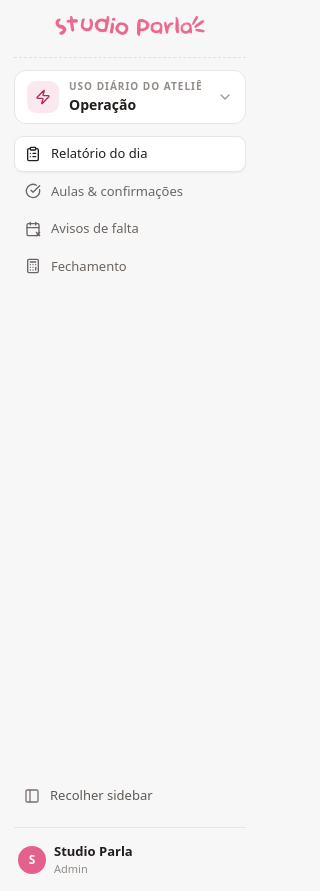
Test: sidebar do app enxuto › mostra somente os itens do workspace selecionado
Expected: the link "Aulas & confirmações" is shown, [25,182,183,200]
Click the dropdown named "Workspace": coordinates (130, 97) [14,70,246,124]
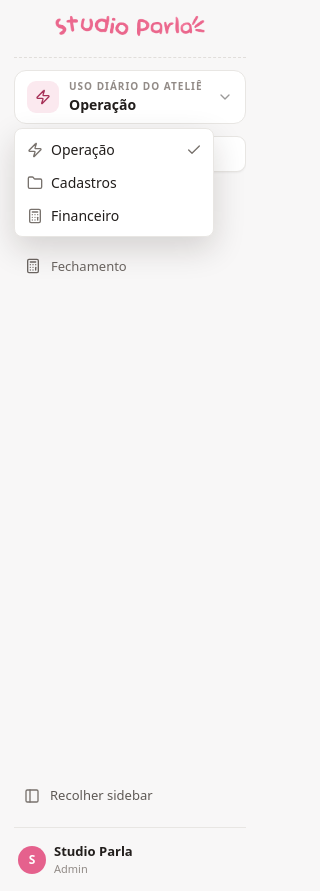
Click the option "Financeiro": coordinates (73, 216) [27,206,119,225]
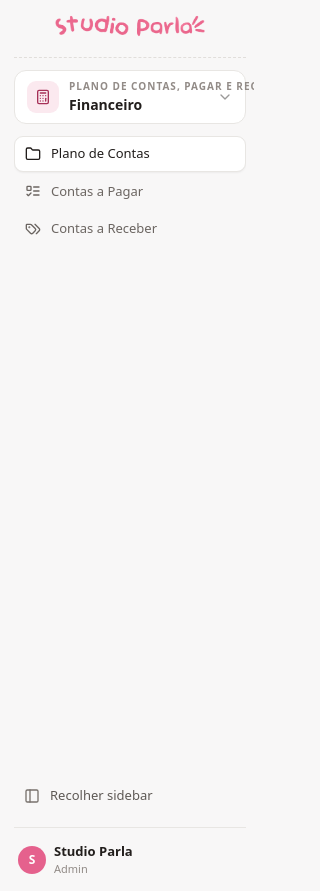
Result: the link "Plano de Contas" is shown at [14,136,246,172]
Result: the link "Contas a Pagar" is shown at [25,182,143,200]
Result: the link "Contas a Receber" is shown at [25,219,157,237]
